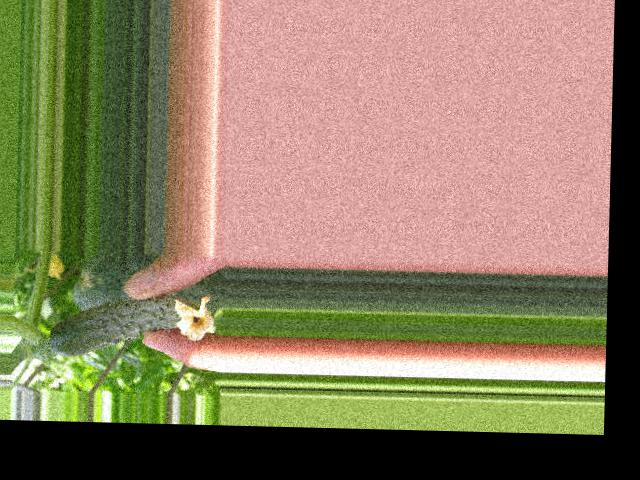cucumber: (48, 291, 214, 359)
